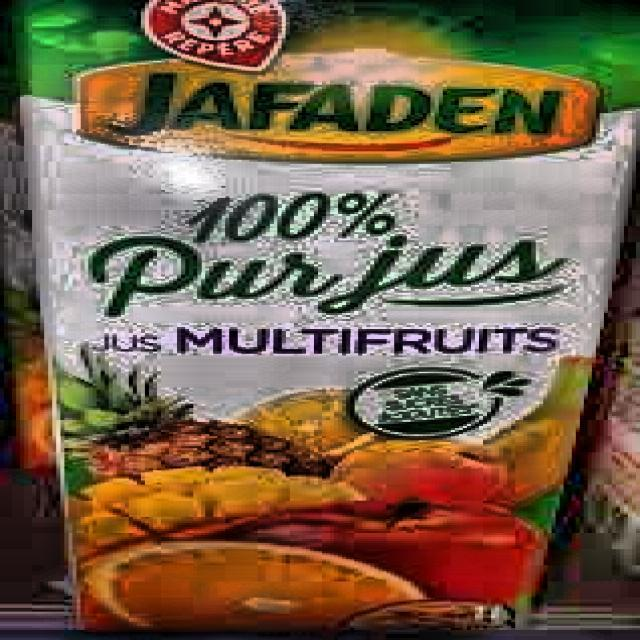cardboard: (4, 0, 636, 630)
